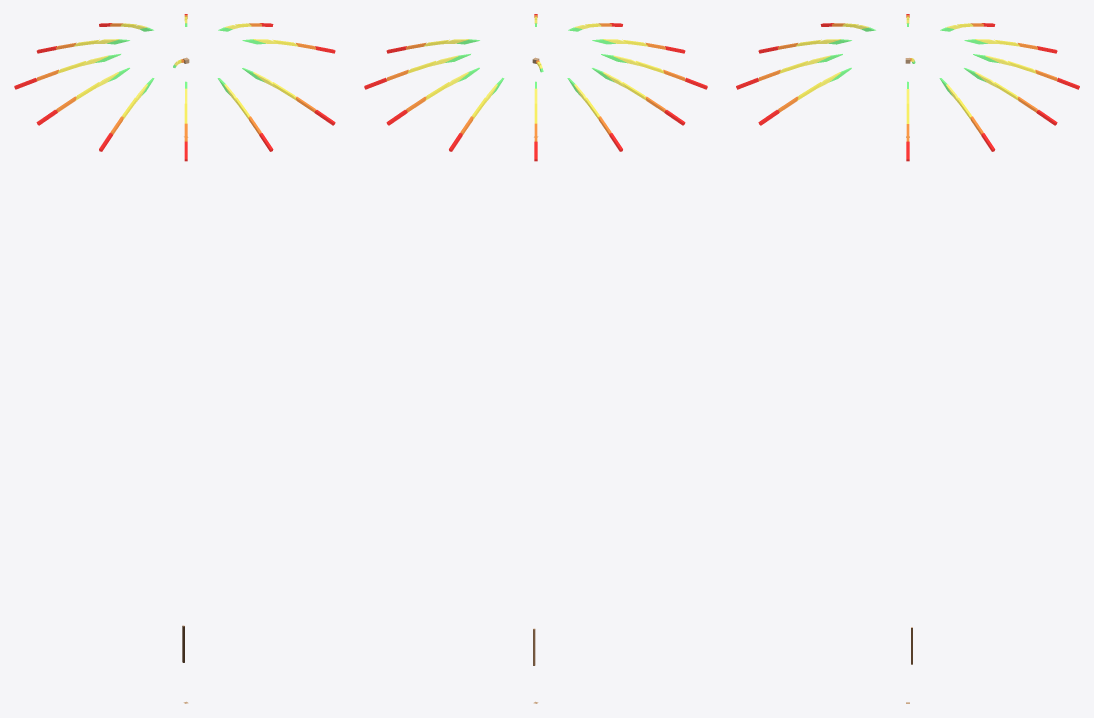
The model's file is explosion.glb.
3 renders of one model, left to right at view 1: azimuth 30°, elevation 25°; view 2: azimuth 150°, elevation 25°; view 3: azimuth 270°, elevation 25°, orthographic.
Size of what is drawn, in the model's own units: 8.78 by 18.28 by 8.78.
2 materials, 2 textured.
